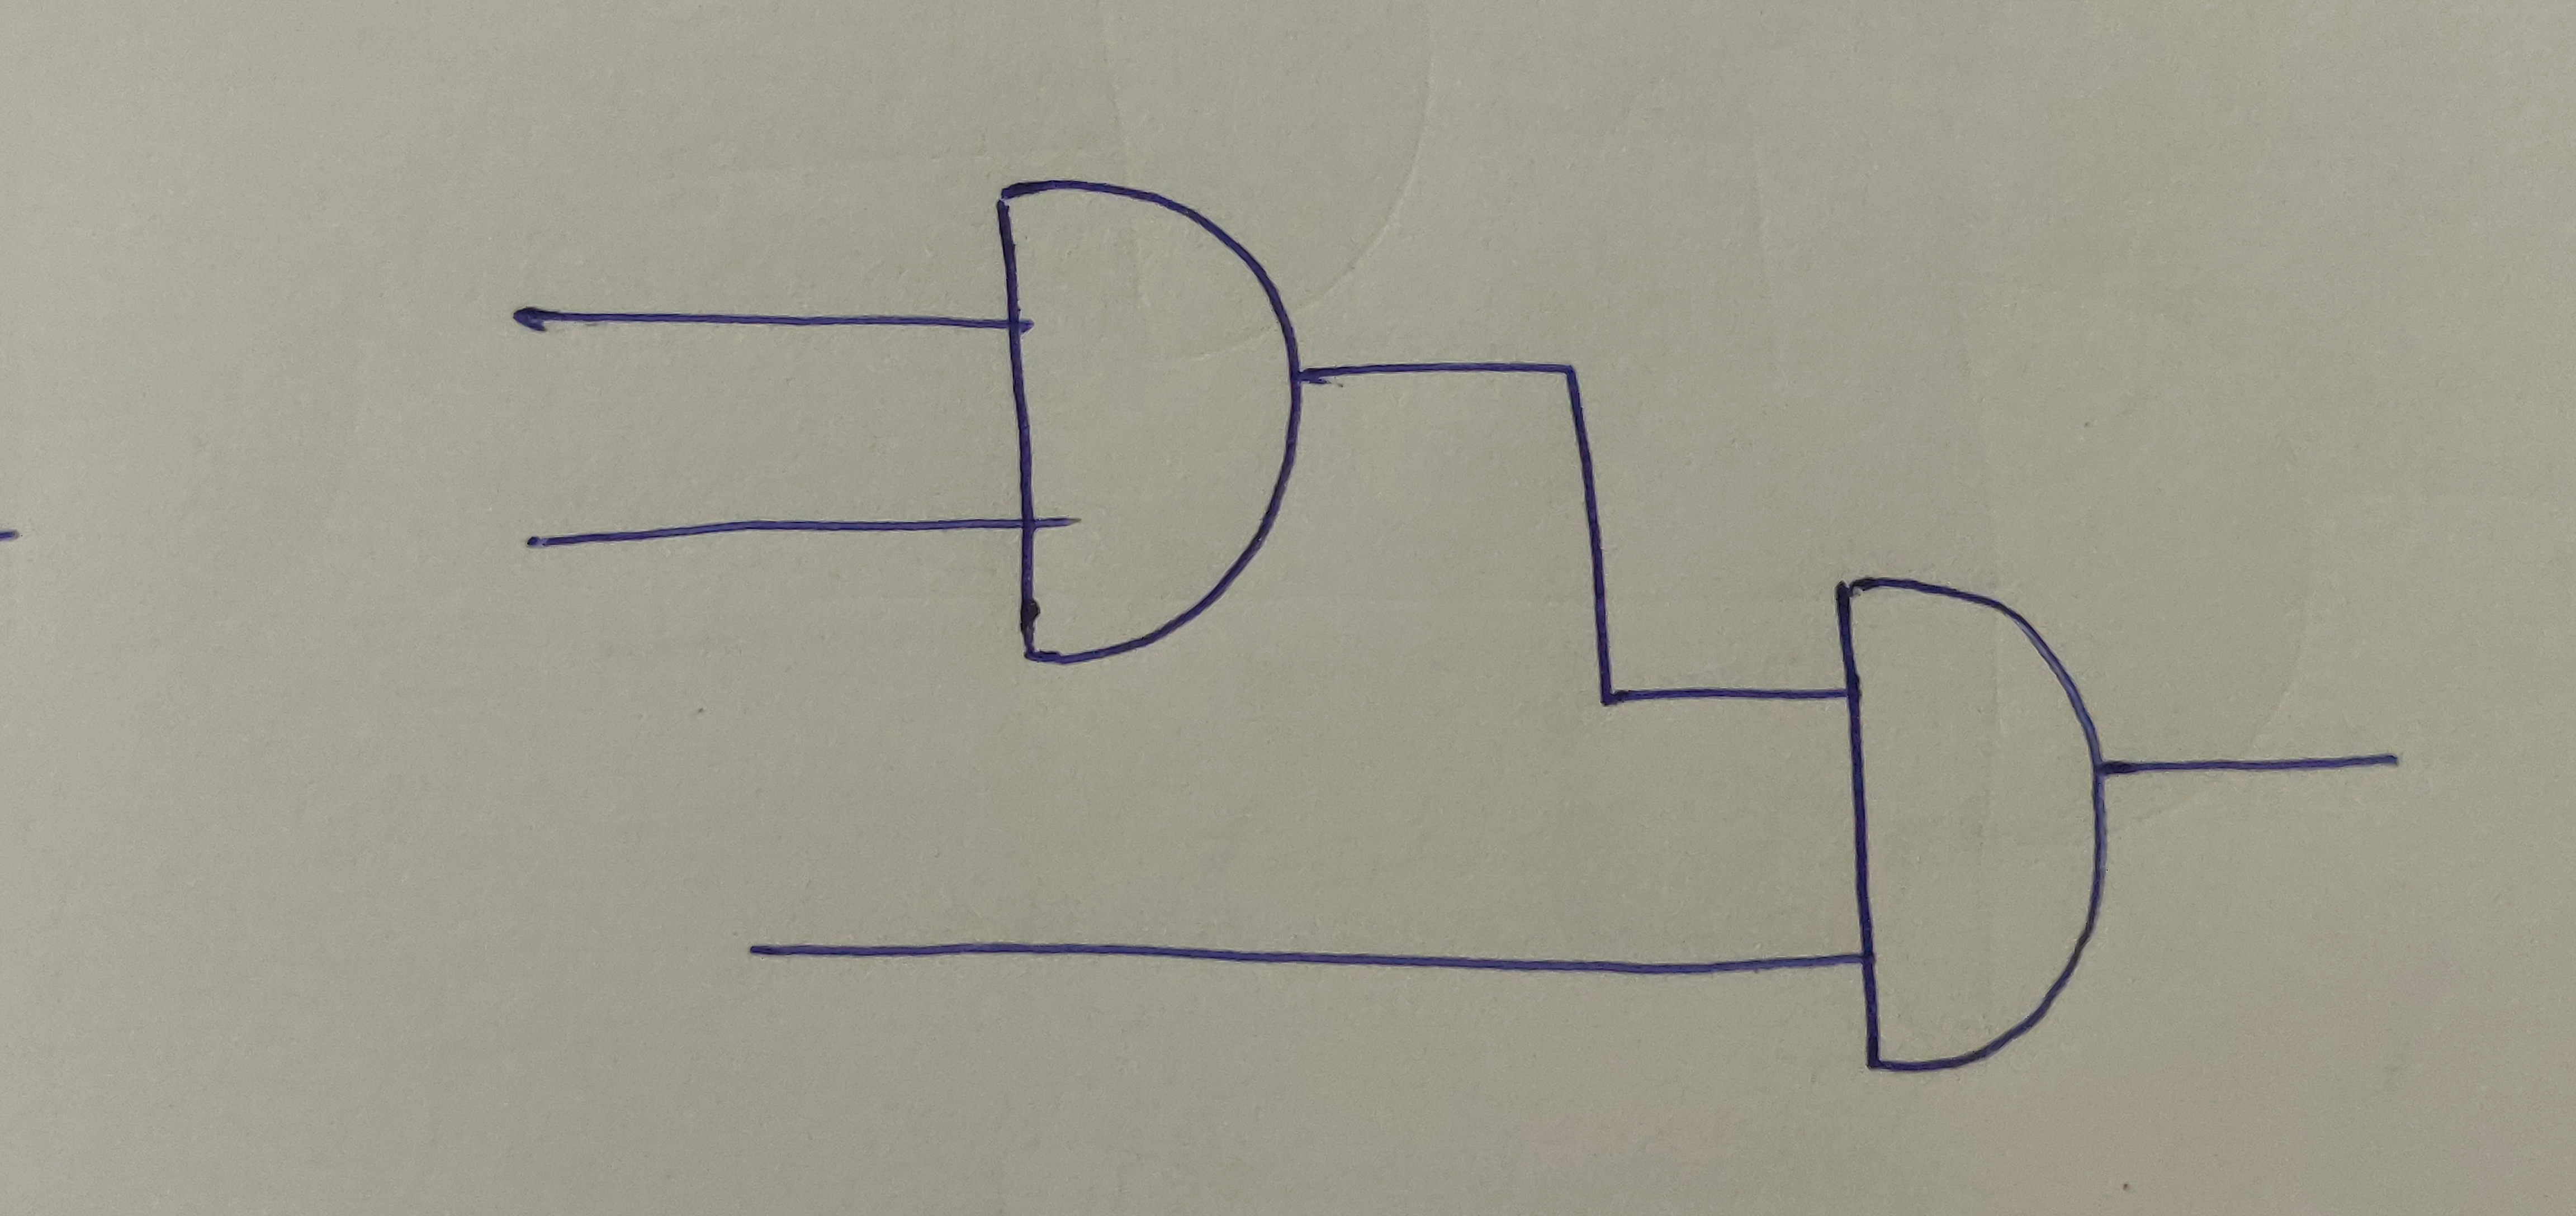and: (984, 171, 1306, 666), (1827, 575, 2109, 1071)
